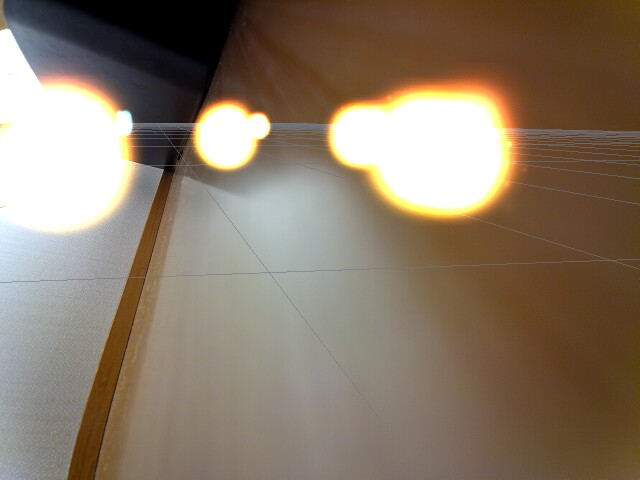firebig: (0, 65, 146, 240)
